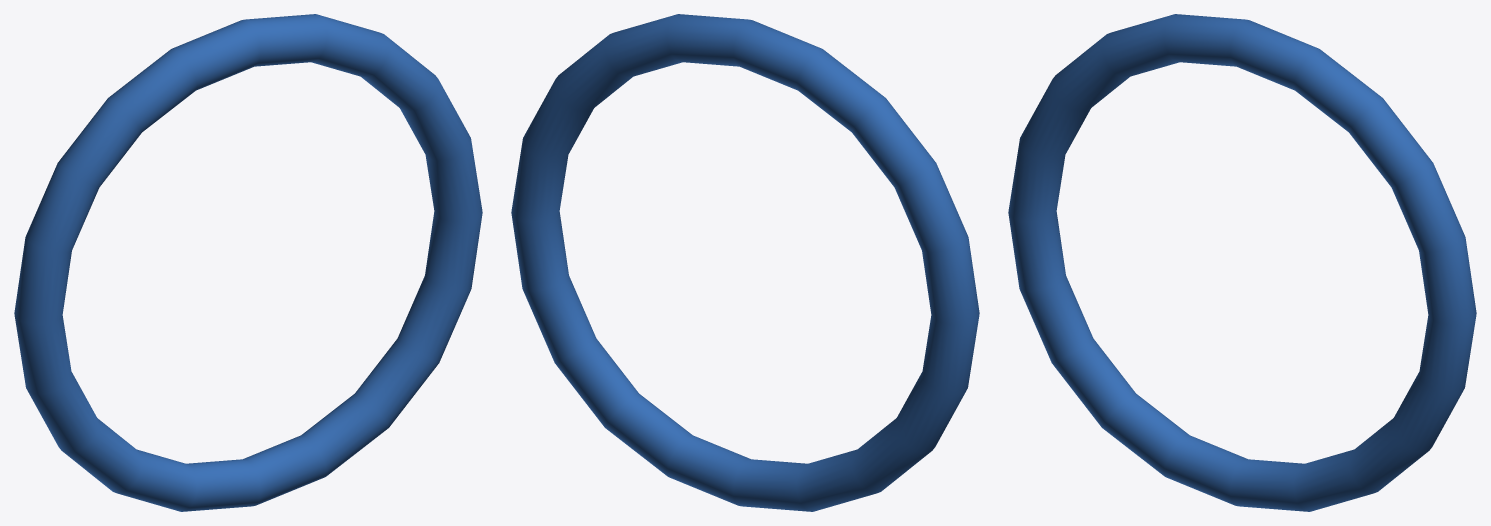
The model's file is SHP0110004.fbx.
3 renders of one model, left to right at view 1: azimuth 30°, elevation 25°; view 2: azimuth 150°, elevation 25°; view 3: azimuth 330°, elevation 25°, orthographic.
Parts seen in each view (by area): view 1: smSHP0110004; view 2: smSHP0110004; view 3: smSHP0110004.
Part boxes in pixels (bbox=[...]): smSHP0110004: bbox=[14, 14, 482, 511]; smSHP0110004: bbox=[511, 14, 979, 511]; smSHP0110004: bbox=[1008, 14, 1476, 511].
Size of the model in its own units: 149 by 149 by 13.53.
1 material, 1 textured.
